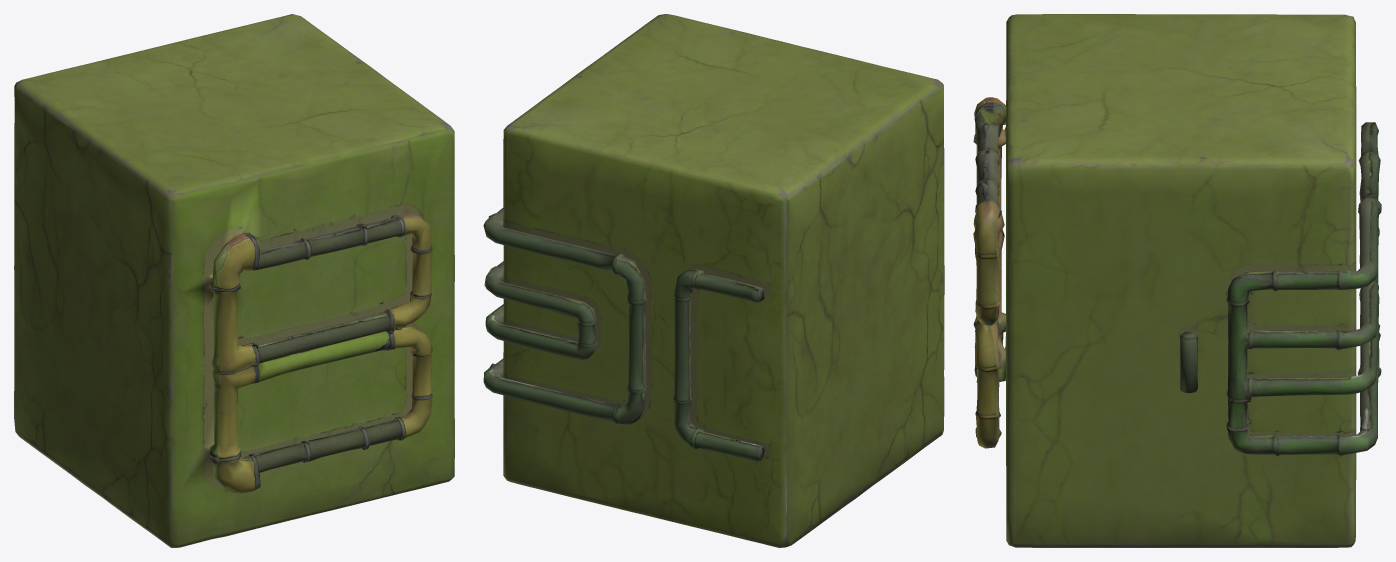
The model's file is Concrete_Circuitry_0404141508_texture.glb.
The picture shows the model from 3 angles, left to right: view 1: azimuth 30°, elevation 25°; view 2: azimuth 150°, elevation 25°; view 3: azimuth 270°, elevation 25°; orthographic projection. The views are drawn at different scales.
Size of the model in its own units: 1.8 by 2 by 1.9.
1 material, 1 textured.
